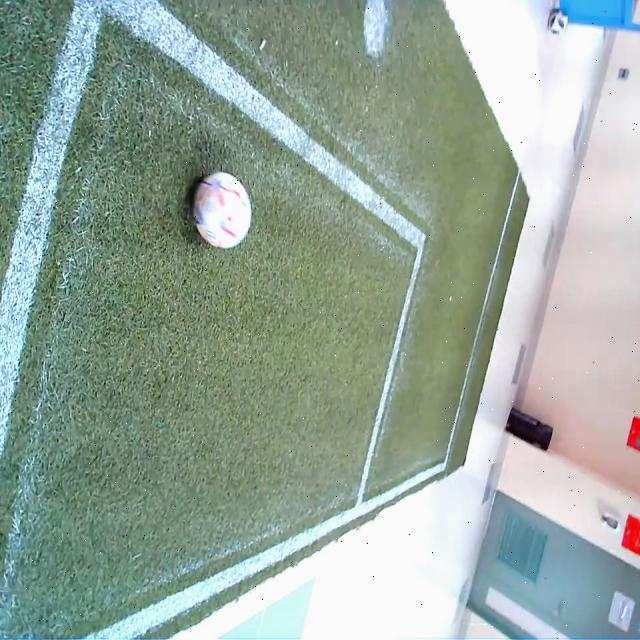ball: (194, 170, 251, 248)
